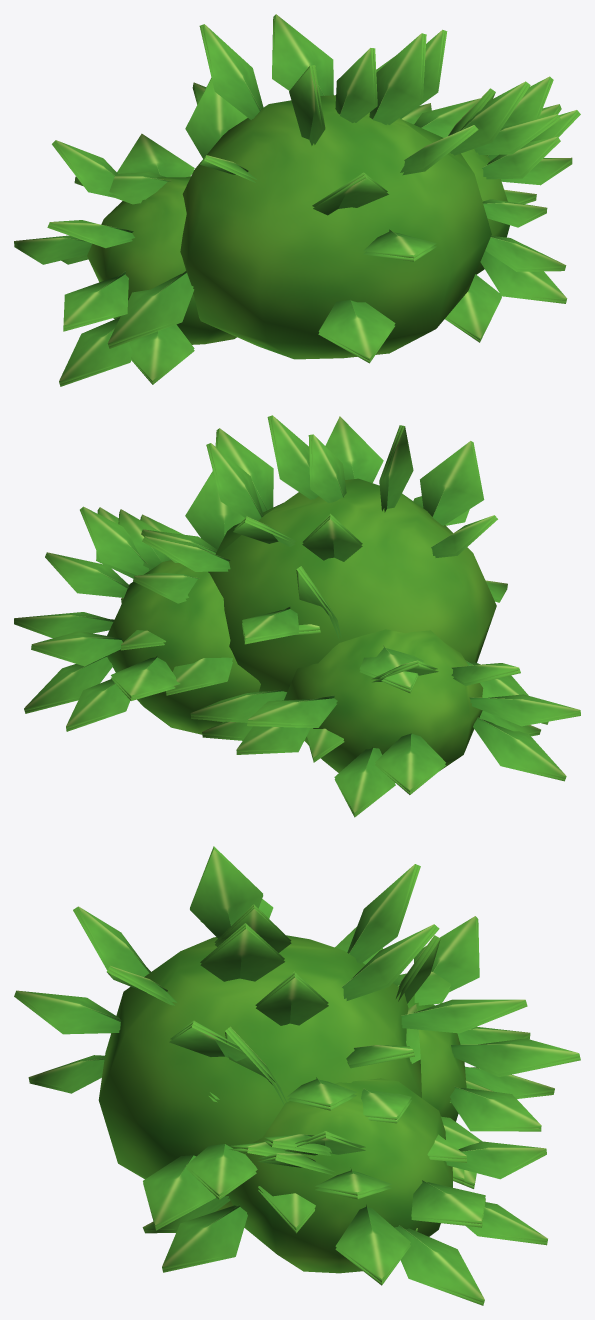
File: Kit_BushA.obj
3 renders of one model, top to bottom at view 1: azimuth 30°, elevation 25°; view 2: azimuth 150°, elevation 25°; view 3: azimuth 270°, elevation 25°, orthographic. The views are drawn at different scales.
Parts seen in each view (by area): view 1: Kit_BushA; view 2: Kit_BushA; view 3: Kit_BushA.
Part boxes in pixels (x1,y1,x2,y2): Kit_BushA: (14,14,580,386); Kit_BushA: (14,415,580,817); Kit_BushA: (14,846,580,1305).
Bounding box in the file's own units: 9.98 × 5.28 × 8.08.
1 material, 1 textured.
